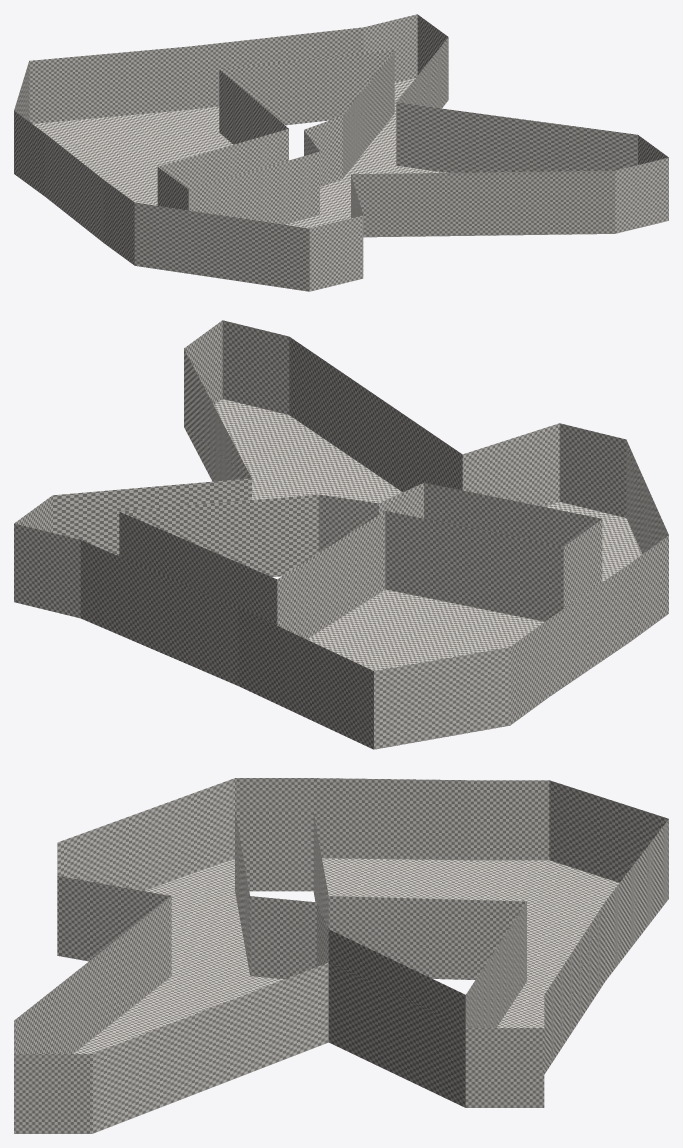
The model's file is stagemodel.fbx.
3 renders of one model, top to bottom at view 1: azimuth 30°, elevation 25°; view 2: azimuth 150°, elevation 25°; view 3: azimuth 270°, elevation 25°, orthographic. The views are drawn at different scales.
Visible parts, largest first — view 1: viz; view 2: viz; view 3: viz.
Boxes of the visible parts, x1,y1,x2,y2 form: viz: (14, 14, 668, 291); viz: (14, 320, 668, 749); viz: (14, 778, 668, 1133).
Bounding box in the file's own units: 104 × 14.06 × 104.
Materials: 1 (1 with a texture image).
